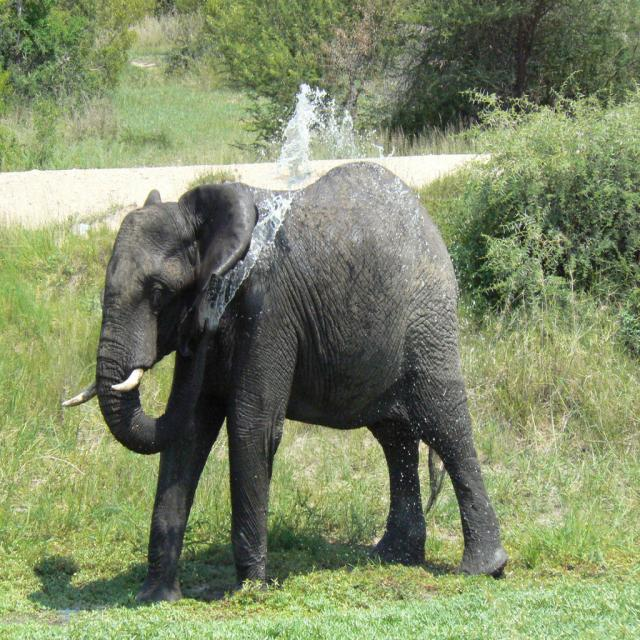elephant: (64, 158, 492, 602)
